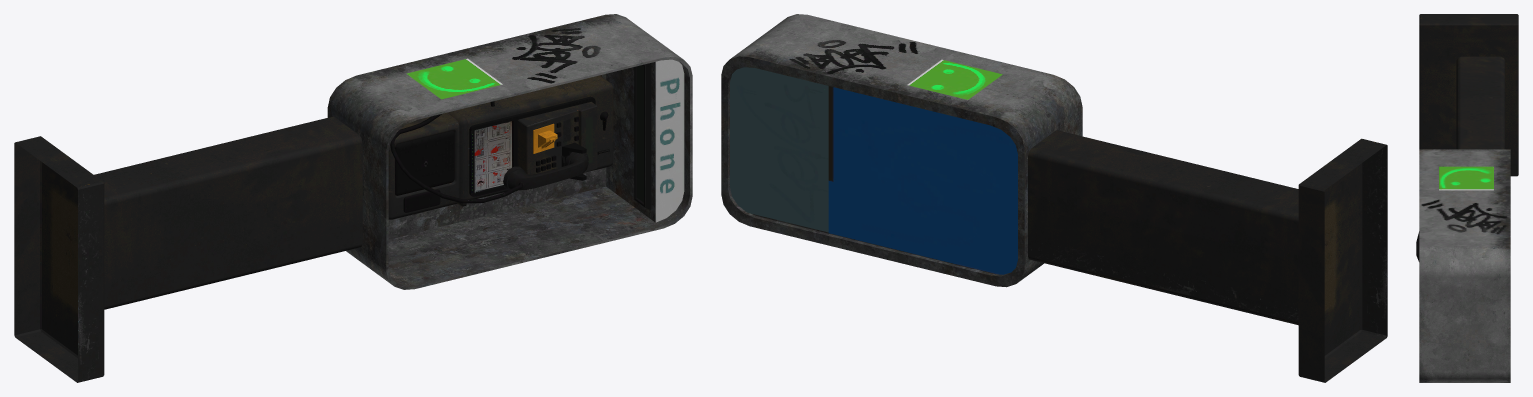
The model's file is cP_Payphone.dae.
The picture shows the model from 3 angles, left to right: view 1: azimuth 30°, elevation 25°; view 2: azimuth 150°, elevation 25°; view 3: azimuth 270°, elevation 25°; orthographic projection. The views are drawn at different scales.
Parts seen in each view (by area): view 1: cP_Payphone.001; view 2: cP_Payphone.001; view 3: cP_Payphone.001.
Part boxes in pixels (<box>): cP_Payphone.001: <box>14,14,692,382</box>; cP_Payphone.001: <box>721,14,1387,382</box>; cP_Payphone.001: <box>1416,14,1518,382</box>.
Bounding box in the file's own units: 1.76 × 0.3261 × 0.5352.
